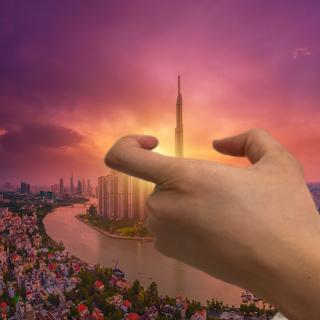HATE: (100, 127, 320, 309)
